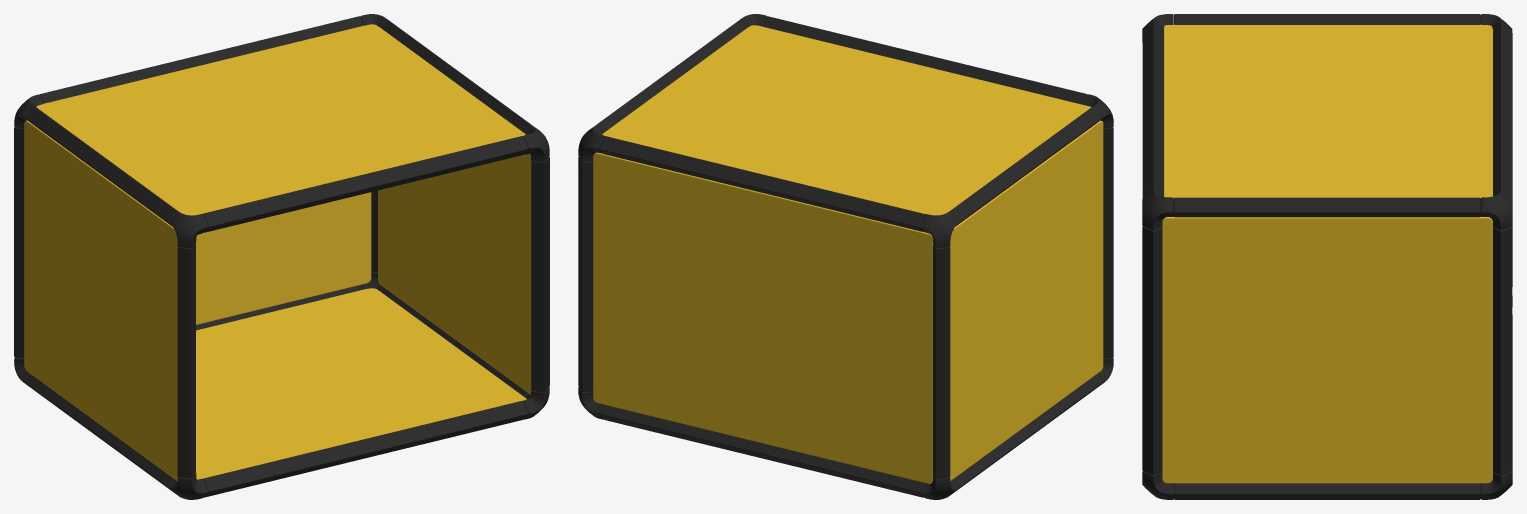
3 renders of one model, left to right at view 1: azimuth 30°, elevation 25°; view 2: azimuth 150°, elevation 25°; view 3: azimuth 270°, elevation 25°, orthographic. The views are drawn at different scales.
Visible parts, largest first — view 1: 479x374x329; view 2: 479x374x329; view 3: 479x374x329.
Part boxes in pixels (box(x1,y1,x2,y2)): 479x374x329: box(14, 14, 549, 499); 479x374x329: box(578, 14, 1113, 499); 479x374x329: box(1142, 14, 1512, 499).
Size of the model in its own units: 0.5567 by 0.4066 by 0.4512.
